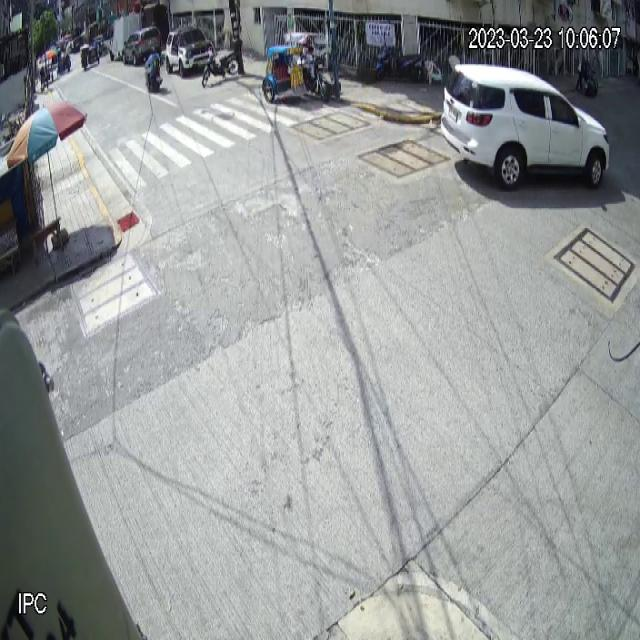Car: (435, 61, 613, 191)
Tricycle: (262, 32, 330, 102)
